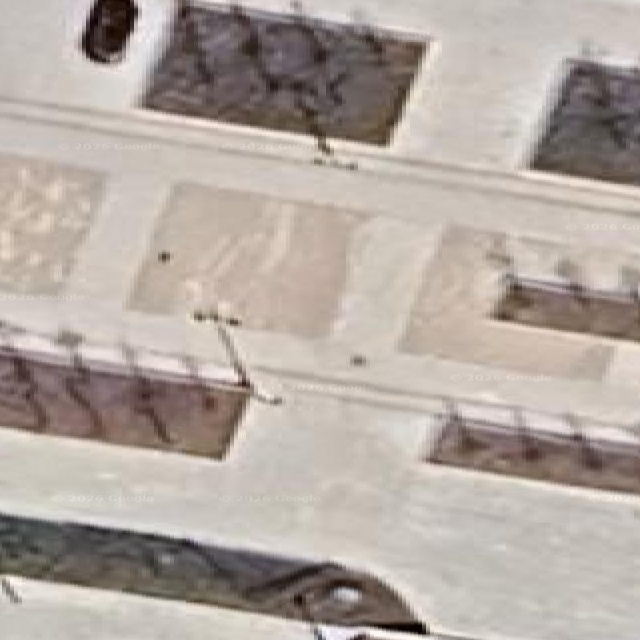car: (81, 0, 138, 63)
